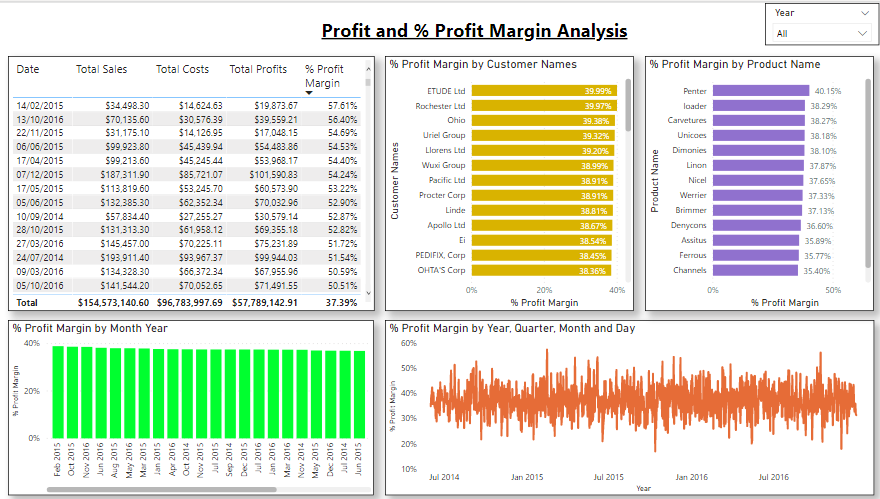

The page's visual inventory and layout, read from the dashboard file:
{"tool":"powerbi","page":{"name":"Profit Margin","canvas":[1280,720],"ordinal":1},"visuals":[{"type":"tableEx","fields":{"Values":["DateDim.Date","Imp Measures.Total Sales","Imp Measures.Total Costs","Imp Measures.Total Profits","Imp Measures.% Profit Margin"]},"box":[17.3,76.6,528.8,368.4],"z":0},{"type":"barChart","fields":{"Category":["Customer Data.Customer Names"],"Y":["Imp Measures.% Profit Margin"]},"box":[561.3,76.5,359.3,367.9],"z":1000},{"type":"lineChart","fields":{"Y":["Imp Measures.% Profit Margin"],"Category":["DateDim.Date.Variation.Date Hierarchy.Year","DateDim.Date.Variation.Date Hierarchy.Quarter","DateDim.Date.Variation.Date Hierarchy.Month","DateDim.Date.Variation.Date Hierarchy.Day"]},"box":[561.3,457.4,705.6,252.5],"z":2000},{"type":"barChart","fields":{"Y":["Imp Measures.% Profit Margin"],"Category":["Product Data.Product Name"]},"box":[936.4,76.5,330.4,367.9],"z":3000},{"type":"columnChart","fields":{"Y":["Imp Measures.% Profit Margin"],"Category":["DateDim.Month Year"]},"box":[17.3,457.4,528.1,252.5],"z":4000},{"type":"textbox","box":[460.3,14.4,460.3,46.2],"z":5000},{"type":"slicer","fields":{"Values":["DateDim.Year"]},"box":[1109.5,0,164.7,60.7],"z":6000}]}

Visuals, with their boxes in screenshot pixels (x1, y1, x2, y2), scaled from the page's 1280x720 canvas onto the 880x499 screenshot:
tableEx - DateDim.Date x Imp Measures.Total Sales: box=[12, 53, 375, 308]
barChart - Customer Data.Customer Names x Imp Measures.% Profit Margin: box=[386, 53, 633, 308]
lineChart - Imp Measures.% Profit Margin x DateDim.Date.Variation.Date Hierarchy.Year: box=[386, 317, 871, 492]
barChart - Imp Measures.% Profit Margin x Product Data.Product Name: box=[644, 53, 871, 308]
columnChart - Imp Measures.% Profit Margin x DateDim.Month Year: box=[12, 317, 375, 492]
textbox: box=[316, 10, 633, 42]
slicer - DateDim.Year: box=[763, 0, 876, 42]
